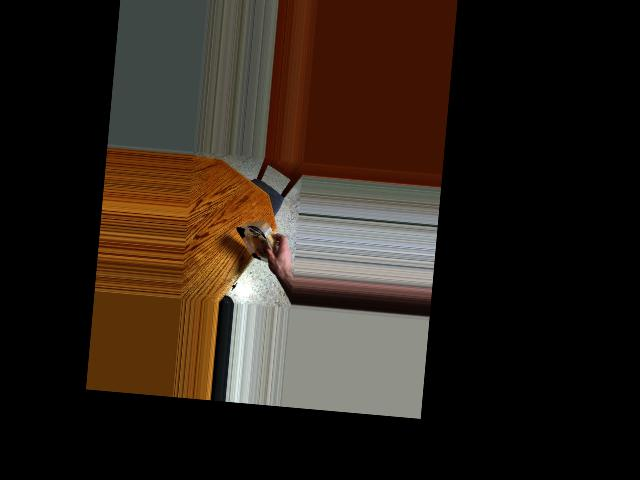cheese: (234, 214, 278, 275)
